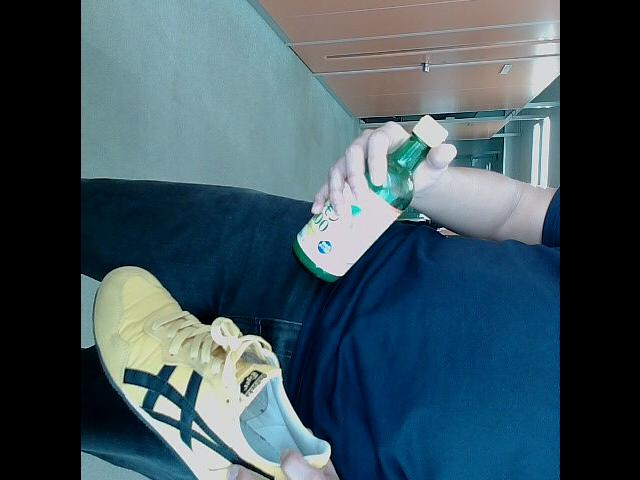Lemon_sapporo: (286, 115, 450, 283)
Shoes: (89, 267, 331, 480)
